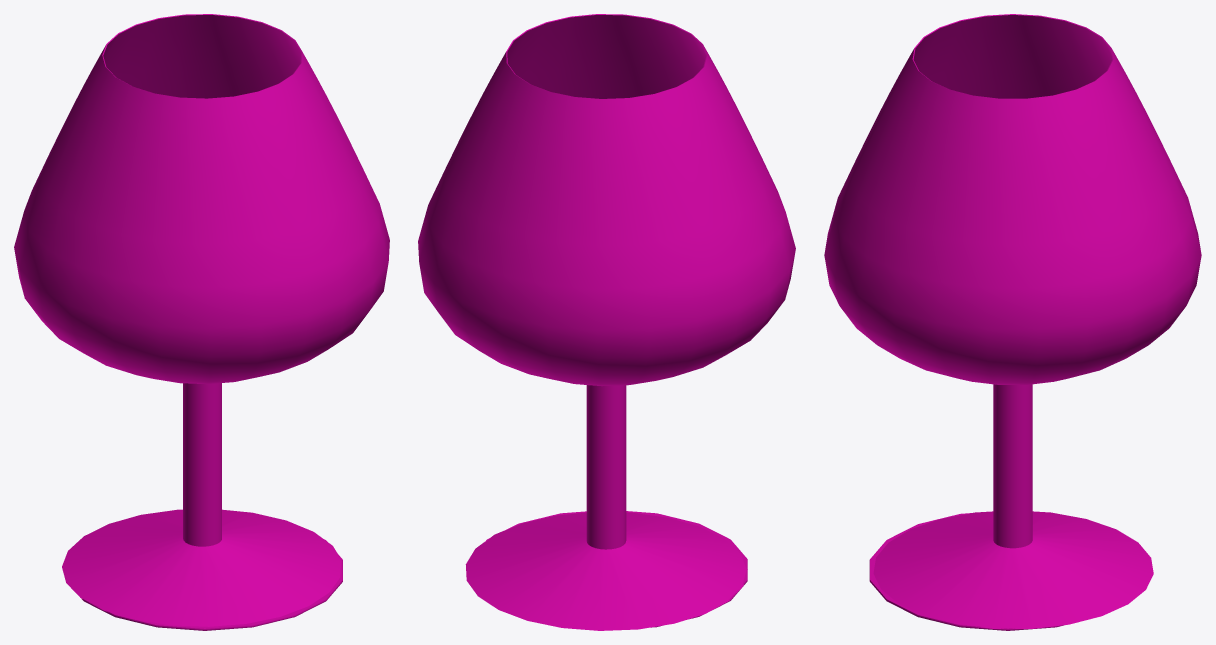
The model's file is glass.FBX.
3 views of the same model, side by side, from view 1: azimuth 30°, elevation 25°; view 2: azimuth 150°, elevation 25°; view 3: azimuth 270°, elevation 25° (orthographic).
Visible parts, largest first — view 1: Line001; view 2: Line001; view 3: Line001.
Boxes of the visible parts, x1,y1,x2,y2 form: Line001: (14, 14, 389, 630); Line001: (418, 14, 795, 630); Line001: (824, 14, 1201, 630).
Bounding box in the file's own units: 37.27 × 56.28 × 37.36.
